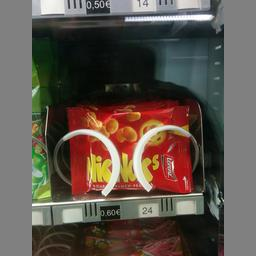nuts: (64, 104, 192, 193)
